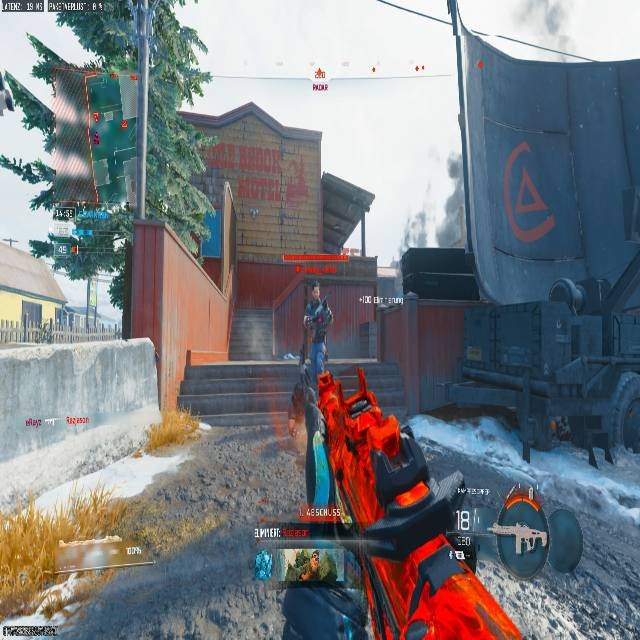head: (306, 286, 322, 308), (311, 285, 320, 300)
player: (302, 282, 332, 370)
